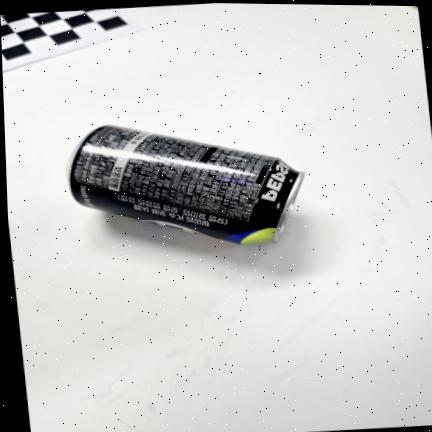can_pepsi_zero: (68, 125, 303, 244)
